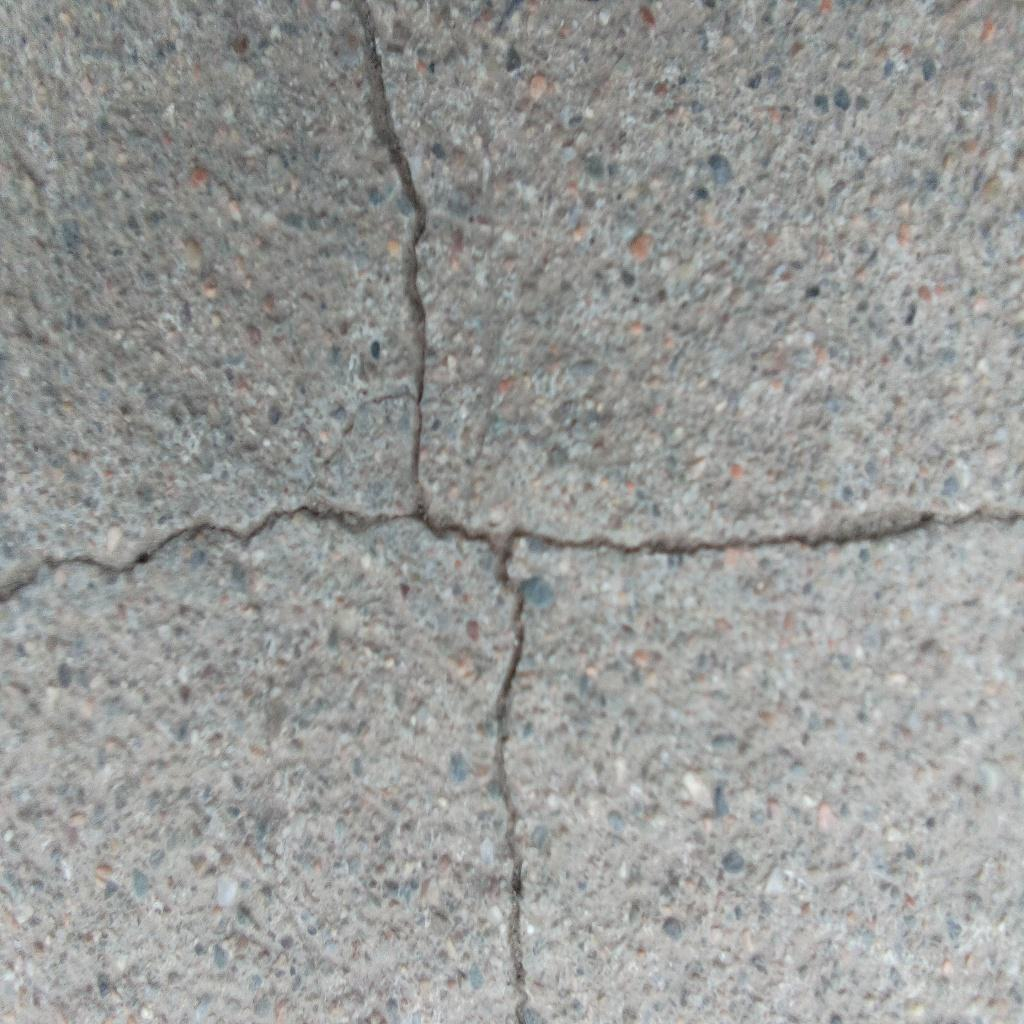Crack: (1, 502, 1024, 608), (353, 1, 428, 502), (491, 555, 527, 1024)
